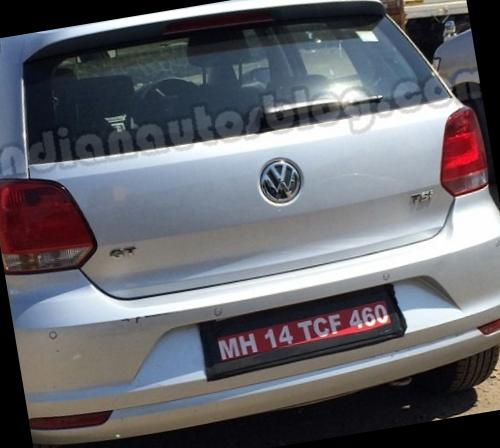plate: (198, 281, 410, 378)
